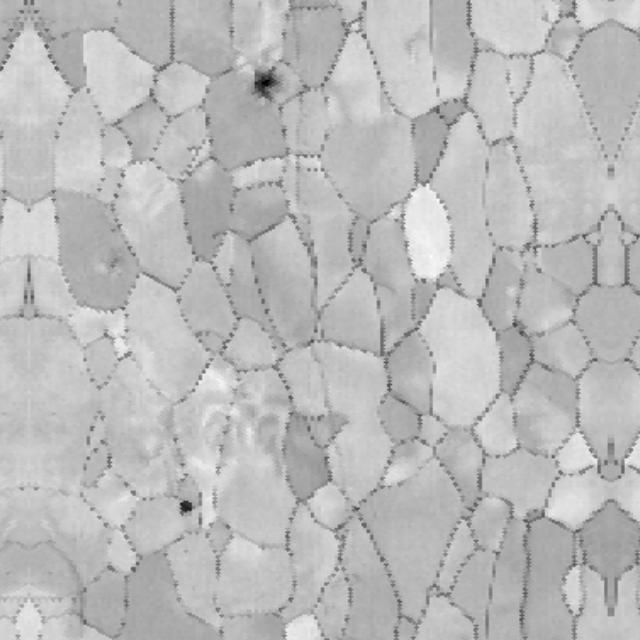good_void: (229, 47, 296, 112), (166, 479, 216, 531), (100, 244, 134, 281), (223, 265, 240, 281), (226, 200, 236, 218), (540, 12, 550, 26)
